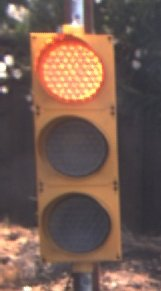Red: (25, 6, 131, 284)
